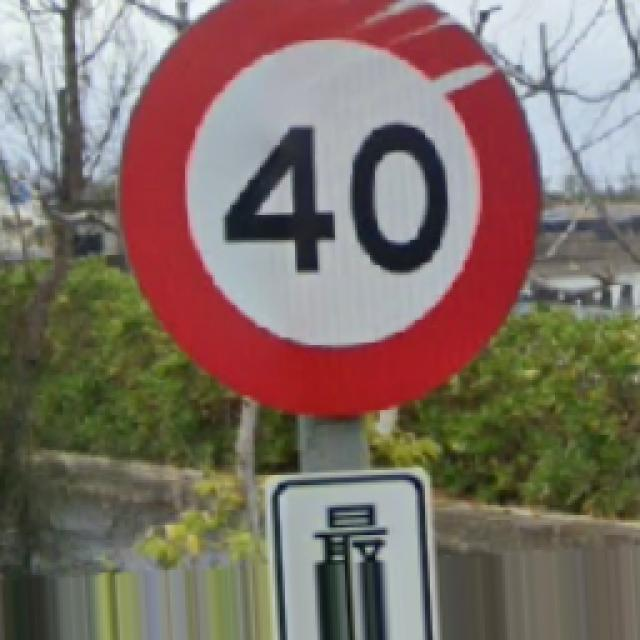Speed Limit -40-: (122, 0, 538, 412)
